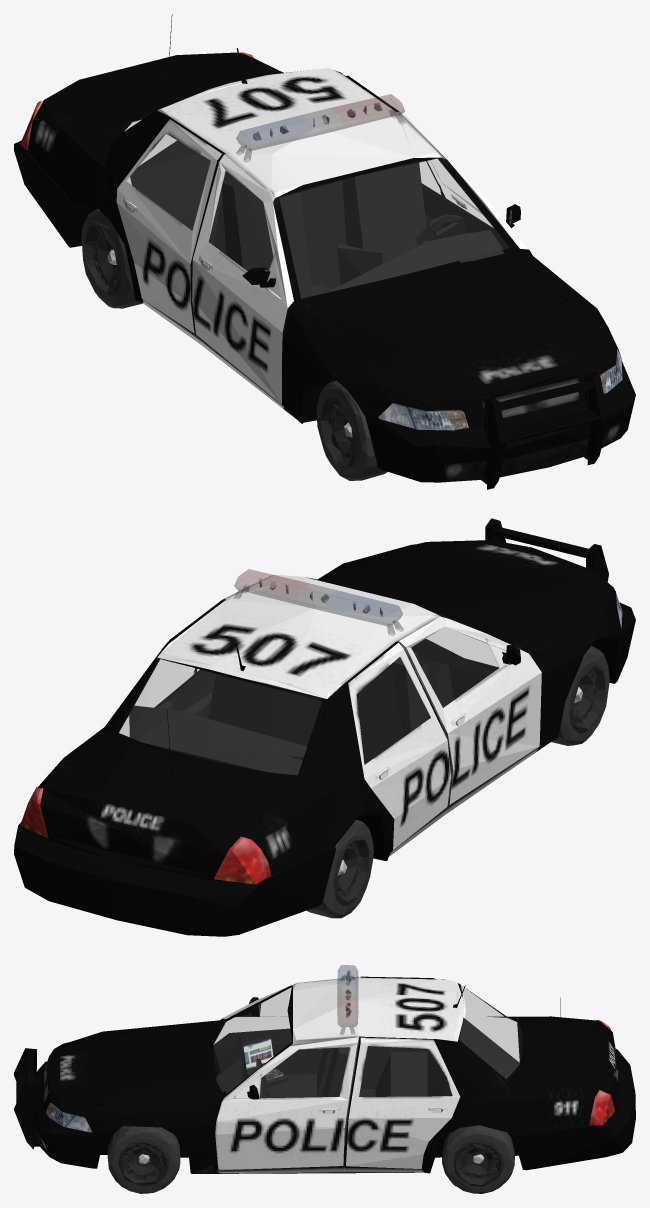
The model's file is police-DdcT6688.glb.
The picture shows the model from 3 angles, top to bottom: view 1: azimuth 30°, elevation 25°; view 2: azimuth 150°, elevation 25°; view 3: azimuth 270°, elevation 25°; orthographic projection. The views are drawn at different scales.
Visible parts, largest first — view 1: CrownVic.Body_0, windows glass_0, interior_0, CrownVic.Wheel.Ft.L_0, Roof light bar_0; view 2: CrownVic.Body_0, windows glass_0, interior_0, CrownVic.Wheel.Ft.L_0, Roof light bar_0; view 3: CrownVic.Body_0, windows glass_0, interior_0, CrownVic.Wheel.Ft.L_0, Roof light bar_0.
Part boxes in pixels (left/top/right/bottom): CrownVic.Body_0: left=14, top=14, right=635, bottom=489; windows glass_0: left=124, top=110, right=508, bottom=297; interior_0: left=130, top=140, right=509, bottom=420; CrownVic.Wheel.Ft.L_0: left=81, top=209, right=387, bottom=480; Roof light bar_0: left=236, top=94, right=405, bottom=162; CrownVic.Body_0: left=14, top=518, right=635, bottom=936; windows glass_0: left=119, top=610, right=498, bottom=774; interior_0: left=129, top=638, right=498, bottom=775; CrownVic.Wheel.Ft.L_0: left=306, top=646, right=609, bottom=918; Roof light bar_0: left=233, top=569, right=403, bottom=635; CrownVic.Body_0: left=14, top=976, right=635, bottom=1173; windows glass_0: left=213, top=985, right=522, bottom=1097; interior_0: left=213, top=1017, right=519, bottom=1098; CrownVic.Wheel.Ft.L_0: left=107, top=1073, right=514, bottom=1193; Roof light bar_0: left=337, top=965, right=358, bottom=1034.
Size of the model in its own units: 1.8 by 1.45 by 4.9.
7 materials, 5 textured.
